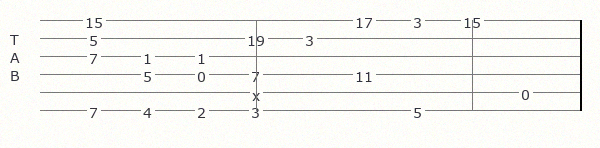0: (197, 67, 210, 81), (521, 85, 534, 99)
1: (143, 49, 156, 63), (197, 49, 210, 63)
11: (355, 67, 377, 81)
15: (85, 13, 107, 27), (463, 13, 485, 27)
17: (355, 13, 377, 27)
19: (247, 31, 269, 45)
2: (197, 103, 210, 117)
3: (251, 103, 264, 117), (305, 31, 318, 45), (413, 13, 426, 27)
4: (143, 103, 156, 117)
5: (89, 31, 102, 45), (143, 67, 156, 81), (413, 103, 426, 117)
7: (89, 103, 102, 117), (89, 49, 102, 63), (251, 67, 264, 81)
x: (252, 86, 264, 98)
